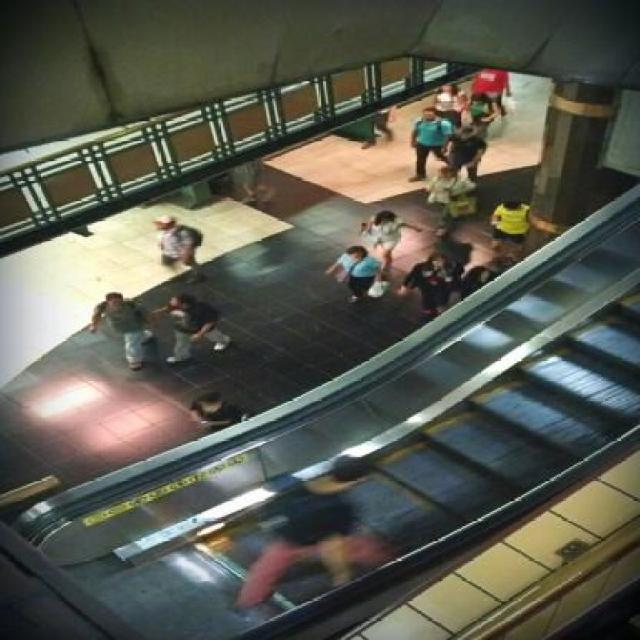stair: (192, 284, 640, 608)
